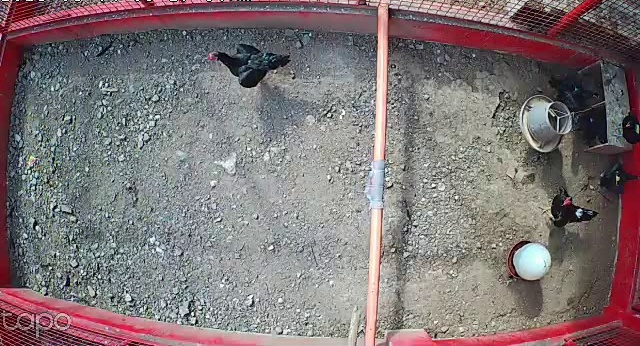Chicken: (204, 36, 295, 92), (543, 67, 604, 101), (594, 160, 640, 196), (555, 85, 591, 116), (612, 113, 640, 148)
Rooster: (534, 183, 602, 230)
Saddle_Color_Yellow: (615, 170, 622, 186)
Saddle_Color_YellowGreen: (635, 123, 640, 134)
